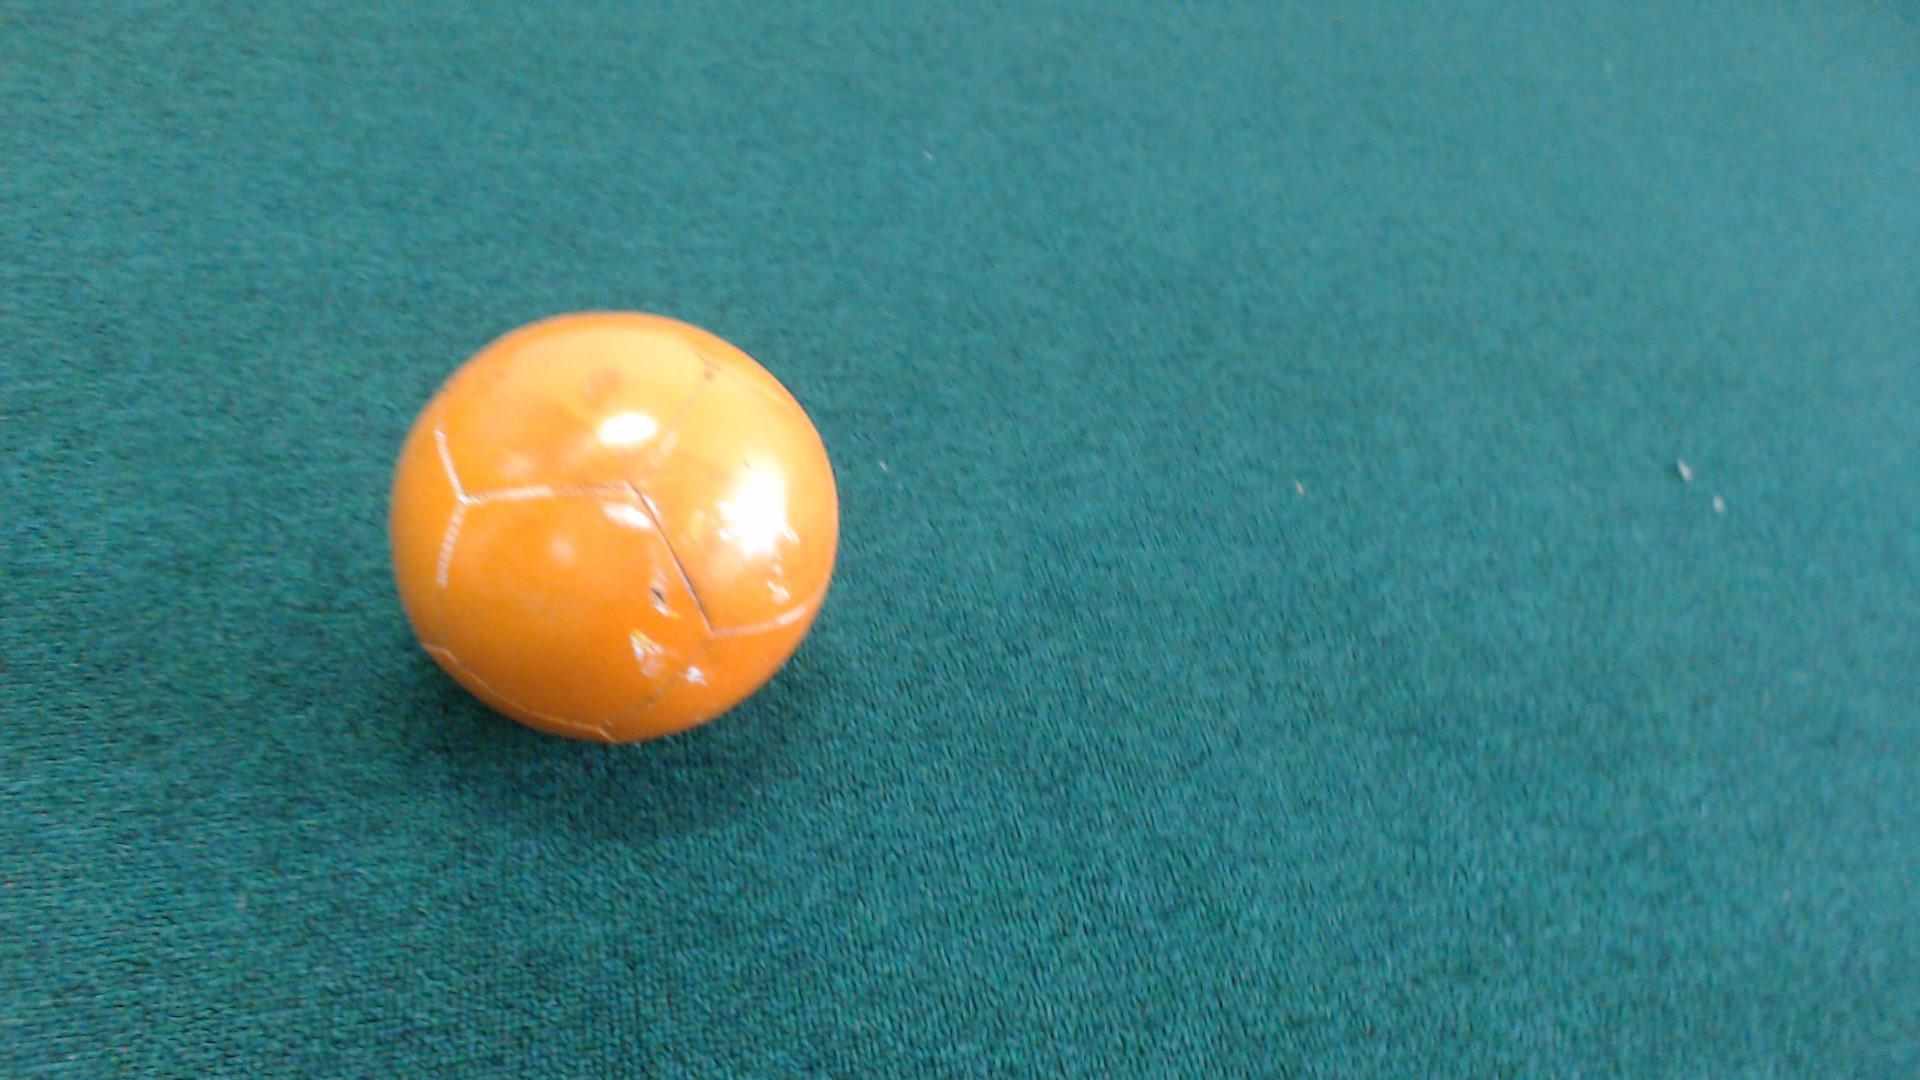bola: (368, 269, 861, 756)
